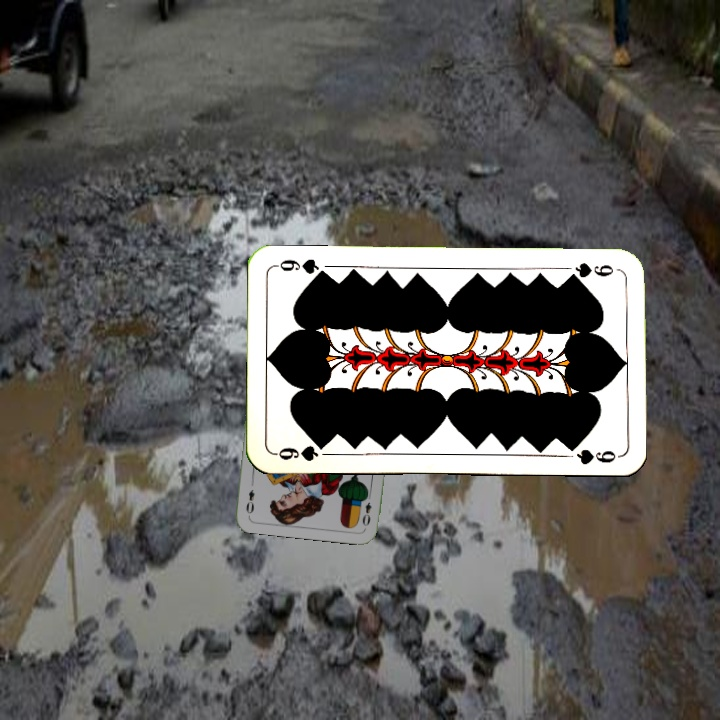EO: (358, 489, 374, 528)
G9: (271, 438, 330, 463), (563, 259, 616, 282)
